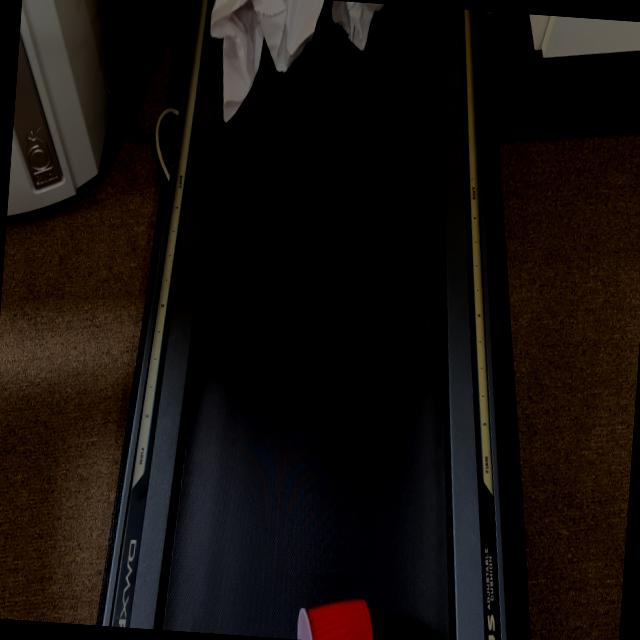Recycle: (200, 0, 387, 135), (294, 596, 377, 640)
